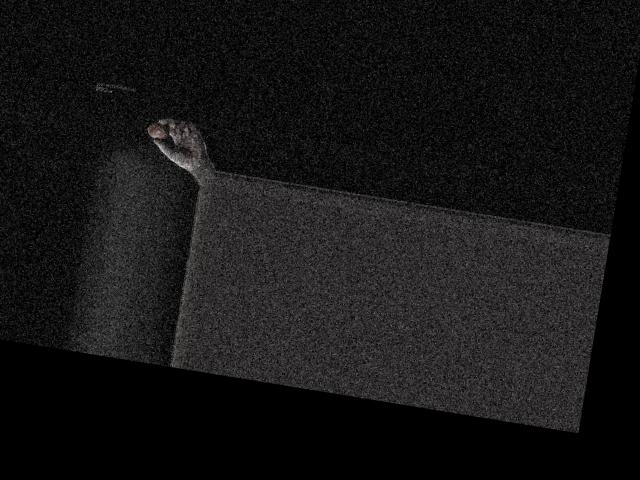egg: (147, 121, 171, 141)
